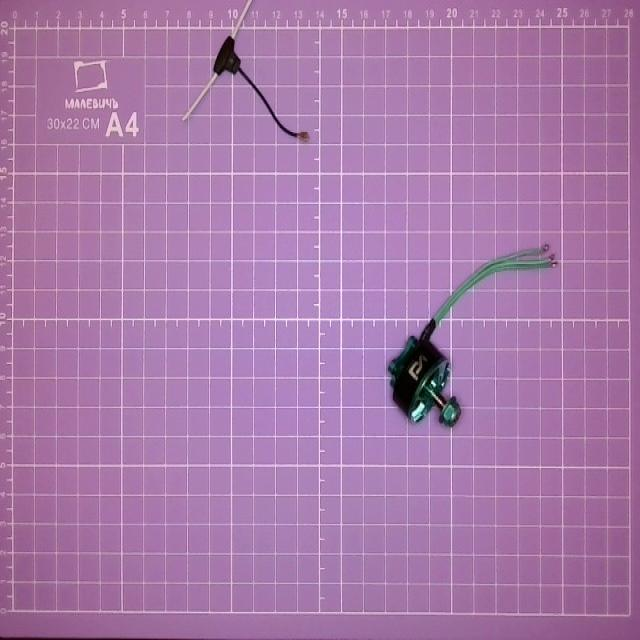antenna: (181, 0, 315, 153)
motor: (387, 243, 565, 428)
